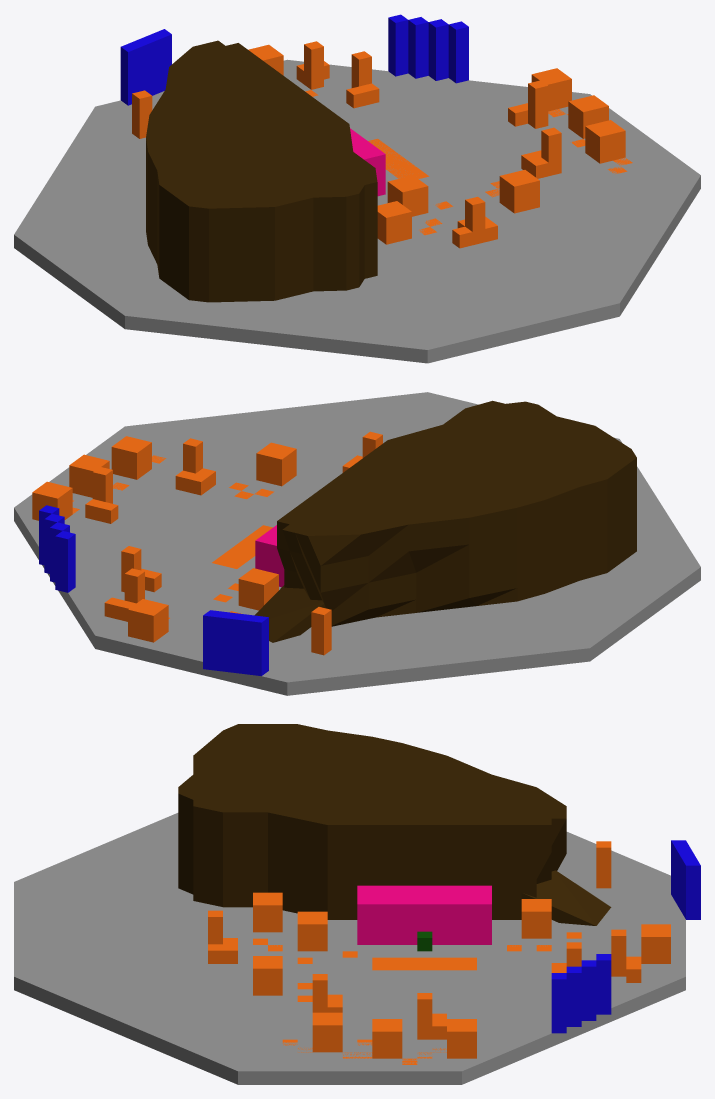
Rendered from Shop.FBX.
3 renders of one model, top to bottom at view 1: azimuth 30°, elevation 25°; view 2: azimuth 150°, elevation 25°; view 3: azimuth 270°, elevation 25°, orthographic.
Visible parts, largest first — view 1: Shop_Blockout__no_walls_; view 2: Shop_Blockout__no_walls_; view 3: Shop_Blockout__no_walls_.
Boxes of the visible parts, x1=… form: Shop_Blockout__no_walls_: x1=14, y1=14, x2=700, y2=363; Shop_Blockout__no_walls_: x1=14, y1=392, x2=700, y2=695; Shop_Blockout__no_walls_: x1=14, y1=724, x2=700, y2=1084.
Size of the model in its own units: 45 by 8 by 46.
